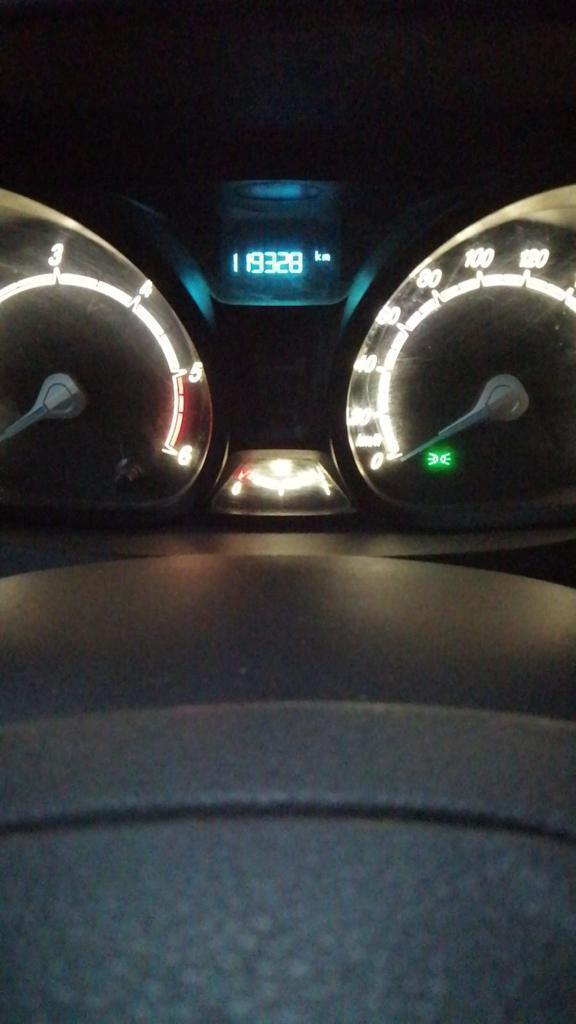1: (231, 250, 240, 274), (243, 251, 251, 273)
2: (276, 250, 289, 275)
3: (264, 250, 275, 275)
8: (289, 249, 303, 275)
9: (251, 250, 263, 275)
X: (321, 252, 332, 263), (312, 248, 320, 263)
odometer: (199, 236, 359, 309)
